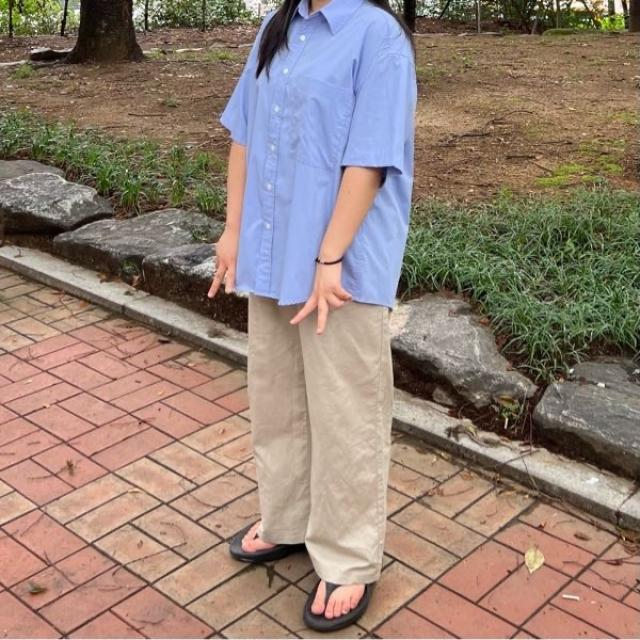cottonpants: (250, 290, 399, 590)
shirt: (219, 0, 415, 308)
